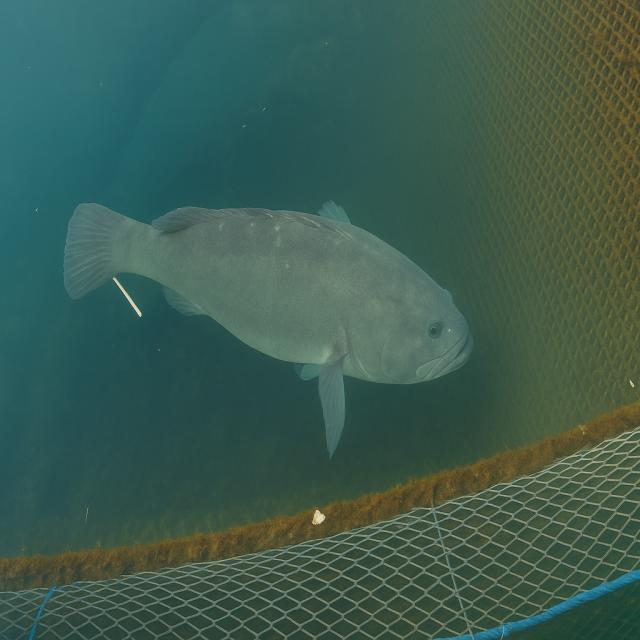ikan: (62, 198, 474, 460)
